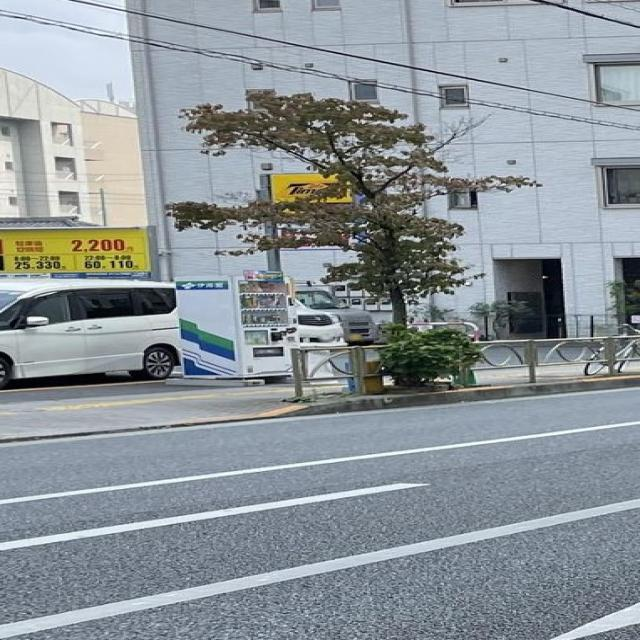dogwood: (160, 88, 547, 387)
